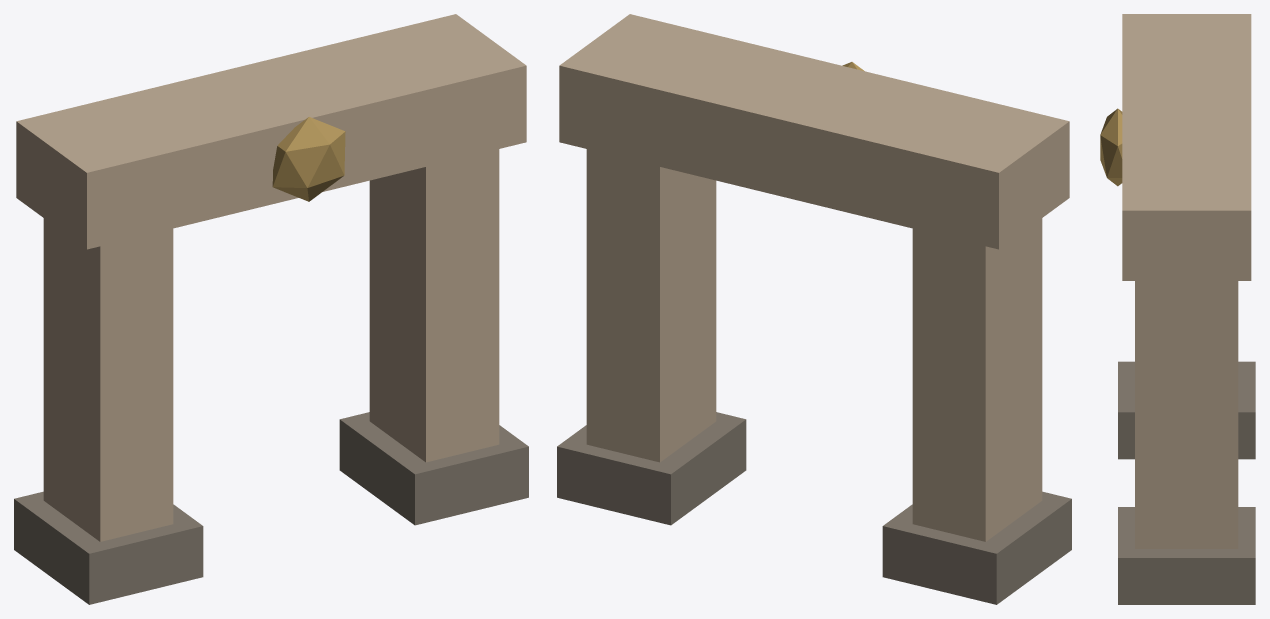
Rendered from arch.glb.
3 renders of one model, left to right at view 1: azimuth 30°, elevation 25°; view 2: azimuth 150°, elevation 25°; view 3: azimuth 270°, elevation 25°, orthographic. The views are drawn at different scales.
Visible parts, largest first — view 1: arch; view 2: arch; view 3: arch.
Boxes of the visible parts, bbox=[...] form: arch: bbox=[14, 14, 528, 604]; arch: bbox=[557, 14, 1071, 604]; arch: bbox=[1100, 14, 1255, 604].
Size of the model in its own units: 2.7 by 2.55 by 0.9021.
